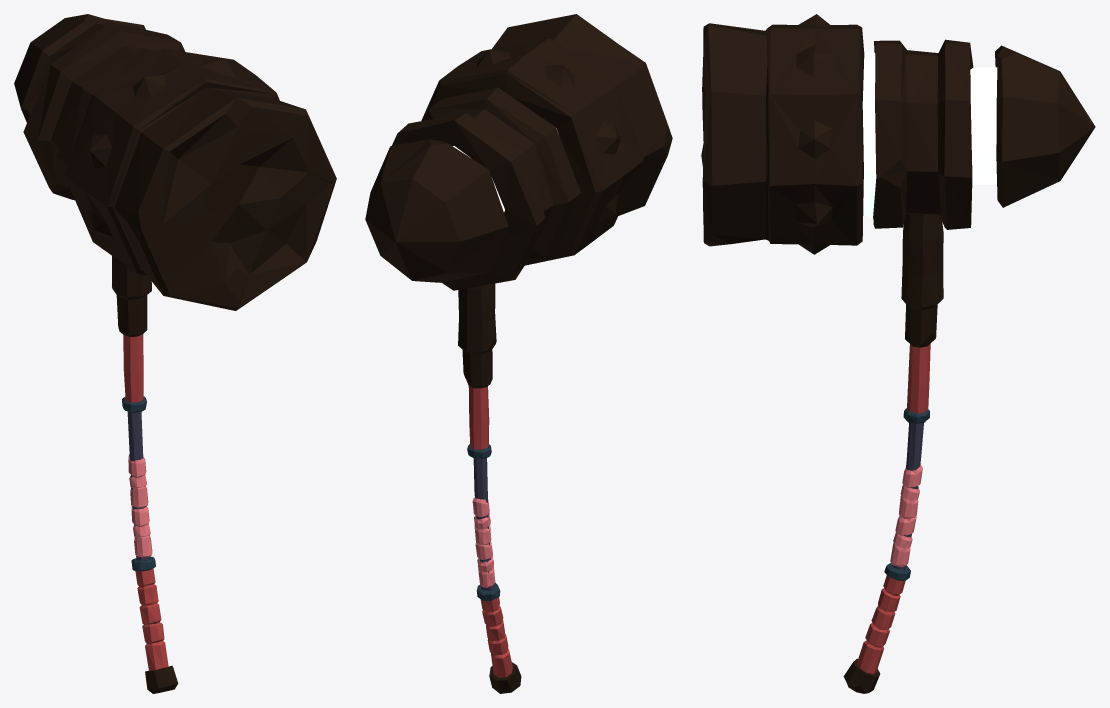
Rendered from SFFA_Weapon_Hammer_Iron_006.fbx.
The picture shows the model from 3 angles, left to right: view 1: azimuth 30°, elevation 25°; view 2: azimuth 150°, elevation 25°; view 3: azimuth 270°, elevation 25°; orthographic projection. The views are drawn at different scales.
Parts seen in each view (by area): view 1: SFFA_Weapon_Hammer_Iron_006; view 2: SFFA_Weapon_Hammer_Iron_006; view 3: SFFA_Weapon_Hammer_Iron_006.
Boxes of the visible parts, x1,y1,x2,y2 form: SFFA_Weapon_Hammer_Iron_006: (14,14,336,693); SFFA_Weapon_Hammer_Iron_006: (365,14,672,693); SFFA_Weapon_Hammer_Iron_006: (701,14,1095,693).
Bounding box in the file's own units: 50.55 × 156 × 83.49.
